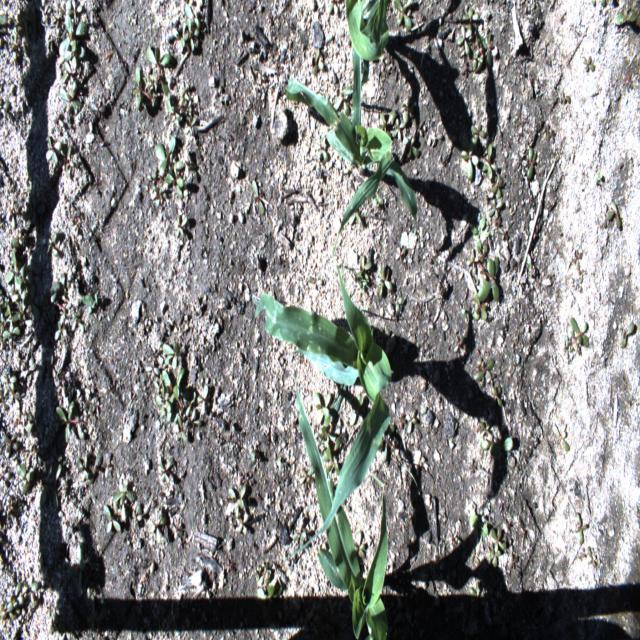crop: (248, 260, 392, 572), (284, 33, 418, 257), (294, 368, 389, 639), (345, 0, 389, 62)
weed: (161, 366, 202, 430), (39, 280, 73, 343), (254, 560, 282, 620), (146, 44, 173, 99), (58, 13, 88, 58), (56, 400, 86, 444), (39, 462, 64, 511), (476, 255, 500, 302), (132, 66, 156, 112), (69, 542, 87, 599), (314, 604, 342, 640), (153, 140, 175, 185), (86, 593, 107, 637), (158, 132, 178, 178), (5, 251, 27, 292), (163, 158, 185, 198), (568, 315, 589, 356), (75, 452, 103, 482), (100, 503, 124, 538), (323, 438, 343, 480), (476, 141, 497, 181), (372, 424, 394, 462), (226, 482, 248, 519), (332, 84, 355, 119), (491, 600, 513, 636), (165, 93, 192, 122), (462, 136, 479, 182), (60, 78, 82, 113), (468, 580, 491, 612), (392, 0, 414, 33), (162, 341, 187, 370), (148, 507, 167, 545), (311, 390, 331, 426), (23, 282, 41, 321), (2, 319, 22, 354), (22, 197, 46, 226), (384, 608, 405, 640), (470, 216, 489, 251), (64, 39, 86, 69), (114, 478, 138, 505), (15, 464, 36, 494), (375, 263, 393, 298), (321, 433, 343, 461), (26, 403, 44, 437), (22, 574, 40, 608), (379, 106, 396, 142), (318, 412, 337, 444), (482, 28, 498, 66), (475, 356, 494, 388), (550, 422, 569, 454), (183, 2, 203, 32), (488, 436, 514, 459), (612, 6, 639, 28), (17, 9, 36, 40), (297, 460, 318, 488), (155, 381, 171, 417), (312, 132, 330, 164), (349, 529, 367, 561), (44, 135, 63, 165), (183, 18, 199, 53), (196, 382, 212, 417), (1, 430, 20, 459), (176, 148, 195, 177), (251, 178, 265, 217), (355, 253, 372, 285), (1, 368, 18, 398), (463, 4, 480, 34), (25, 258, 43, 286), (10, 580, 24, 616), (293, 517, 307, 553), (159, 455, 175, 486), (401, 458, 418, 487), (12, 280, 28, 310), (458, 24, 473, 56), (472, 290, 488, 320), (489, 526, 506, 554), (403, 132, 419, 161), (79, 292, 99, 315), (234, 510, 251, 537), (606, 200, 621, 230), (400, 93, 414, 125), (62, 145, 75, 179), (389, 116, 406, 142), (574, 510, 587, 544), (469, 513, 488, 536), (61, 58, 77, 85), (466, 248, 483, 273), (488, 194, 504, 220), (65, 0, 82, 24), (45, 232, 62, 256), (620, 321, 634, 350), (172, 20, 186, 48), (153, 180, 167, 208), (404, 406, 418, 434), (185, 389, 198, 419), (6, 303, 19, 332), (7, 380, 20, 409), (7, 200, 19, 231), (175, 213, 189, 239), (526, 147, 537, 180), (480, 432, 500, 450), (340, 264, 355, 288), (351, 393, 365, 418), (312, 47, 324, 76), (36, 0, 51, 23), (489, 385, 504, 408), (486, 545, 501, 568), (20, 362, 37, 382), (130, 502, 142, 530), (62, 0, 71, 37), (16, 292, 27, 322), (470, 122, 485, 144), (146, 167, 160, 190), (90, 100, 106, 120), (49, 610, 60, 639), (146, 359, 161, 380), (452, 334, 465, 358), (70, 310, 84, 332), (50, 444, 64, 466), (1, 602, 18, 620), (168, 521, 184, 540), (178, 79, 190, 104), (347, 207, 362, 227), (153, 373, 165, 397), (492, 174, 504, 198), (580, 54, 596, 72), (378, 326, 391, 348), (184, 116, 198, 136), (176, 414, 186, 442), (6, 498, 18, 521), (22, 263, 30, 297), (478, 421, 494, 438), (59, 620, 73, 639), (563, 334, 573, 360), (477, 242, 488, 265), (2, 100, 14, 121), (460, 60, 473, 78), (0, 465, 11, 486), (472, 49, 483, 70), (394, 245, 406, 264), (413, 120, 425, 139), (60, 272, 68, 300), (120, 489, 127, 521), (308, 274, 322, 290), (0, 387, 10, 409), (82, 405, 93, 425), (469, 546, 480, 566), (507, 552, 518, 571), (158, 354, 170, 371), (327, 0, 339, 17), (473, 24, 482, 46), (541, 121, 550, 143), (578, 545, 591, 560), (91, 397, 100, 418), (602, 201, 609, 227), (12, 24, 21, 44), (71, 160, 81, 178), (587, 548, 596, 568), (593, 168, 603, 186), (54, 6, 62, 28), (11, 232, 22, 248), (394, 296, 403, 315), (50, 8, 60, 24), (372, 193, 382, 209), (498, 225, 508, 241), (573, 247, 583, 263), (559, 92, 571, 105), (76, 205, 85, 222), (487, 369, 496, 386), (28, 356, 34, 381), (226, 556, 234, 574), (0, 312, 6, 333), (250, 450, 260, 462), (460, 308, 469, 320), (591, 0, 606, 7), (358, 277, 365, 292), (4, 303, 12, 316), (0, 14, 9, 24), (454, 535, 460, 545)
